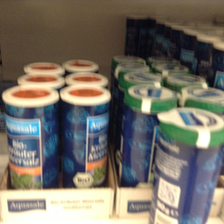spices: (146, 107, 223, 224), (2, 85, 60, 190), (119, 85, 175, 185), (60, 86, 111, 187)
